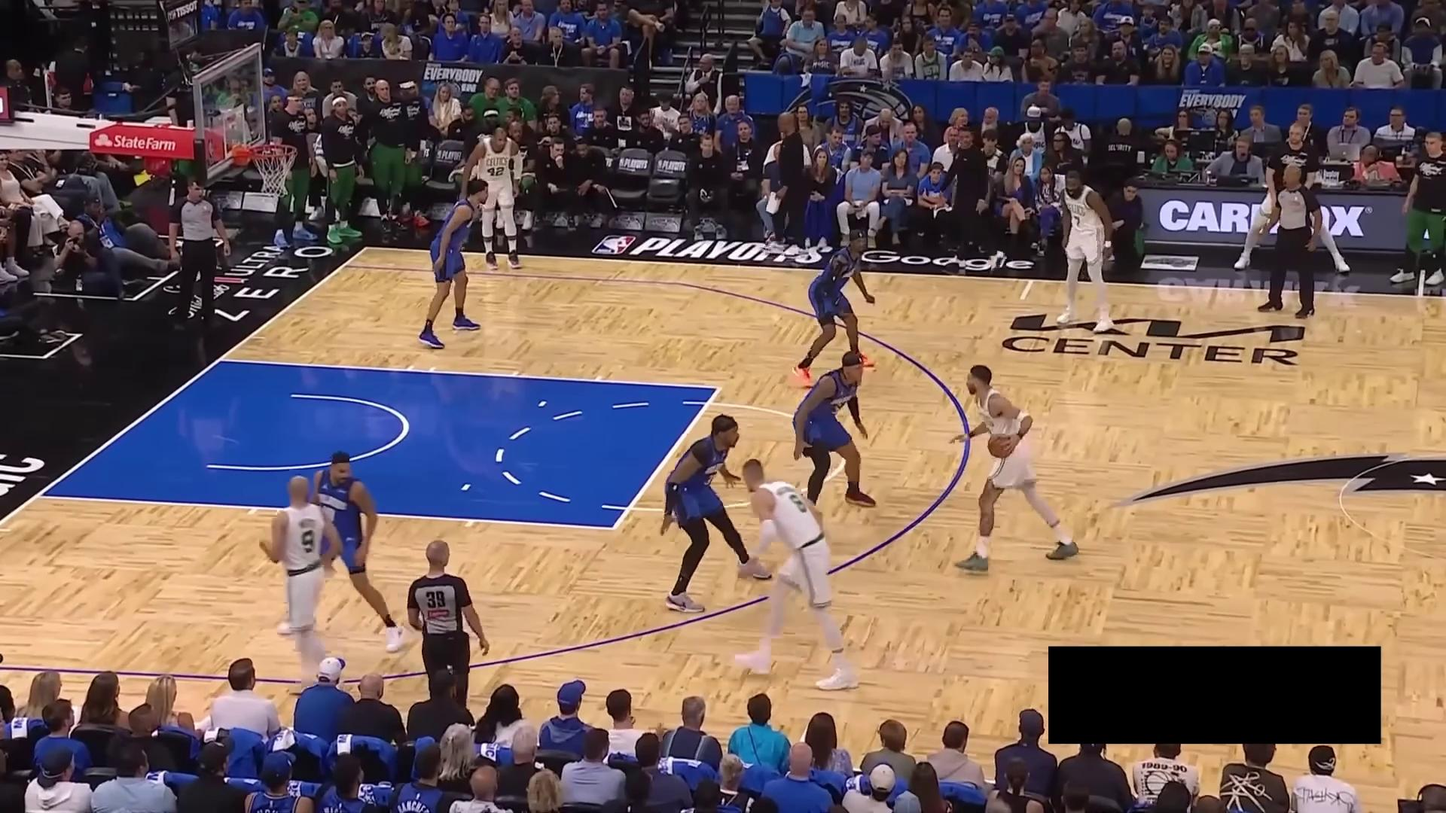ball: (987, 433, 1014, 458)
number: (788, 493, 808, 516), (299, 529, 317, 553), (487, 166, 505, 177), (1073, 215, 1080, 227)
player: (737, 460, 863, 694), (659, 412, 774, 615), (306, 448, 411, 652), (250, 470, 342, 688), (788, 342, 878, 520), (787, 222, 880, 391), (417, 176, 491, 349), (1054, 169, 1123, 332), (456, 121, 527, 273)
player-in-possession: (947, 359, 1084, 572)
referee: (404, 539, 494, 713), (165, 171, 238, 330), (1259, 159, 1323, 324)
rim: (244, 140, 299, 162)
